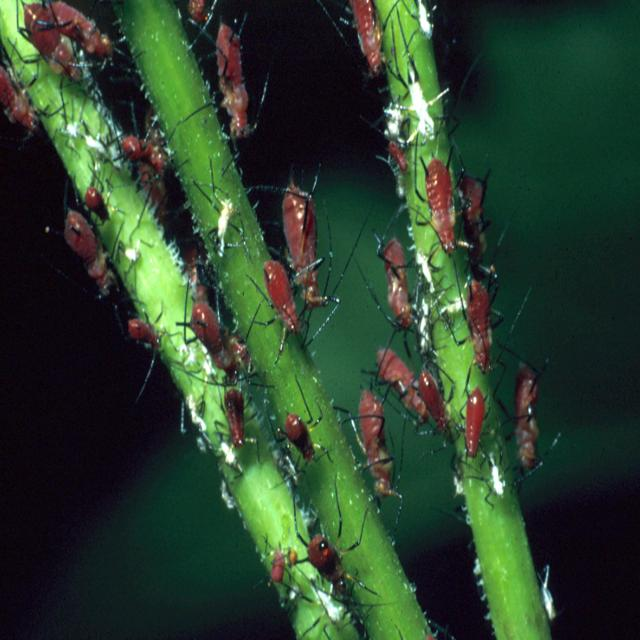Aphid-Grouped-: (17, 5, 376, 611), (339, 6, 547, 502)
Aphid-Grown-: (413, 129, 468, 256), (253, 251, 304, 356), (456, 377, 493, 465)
